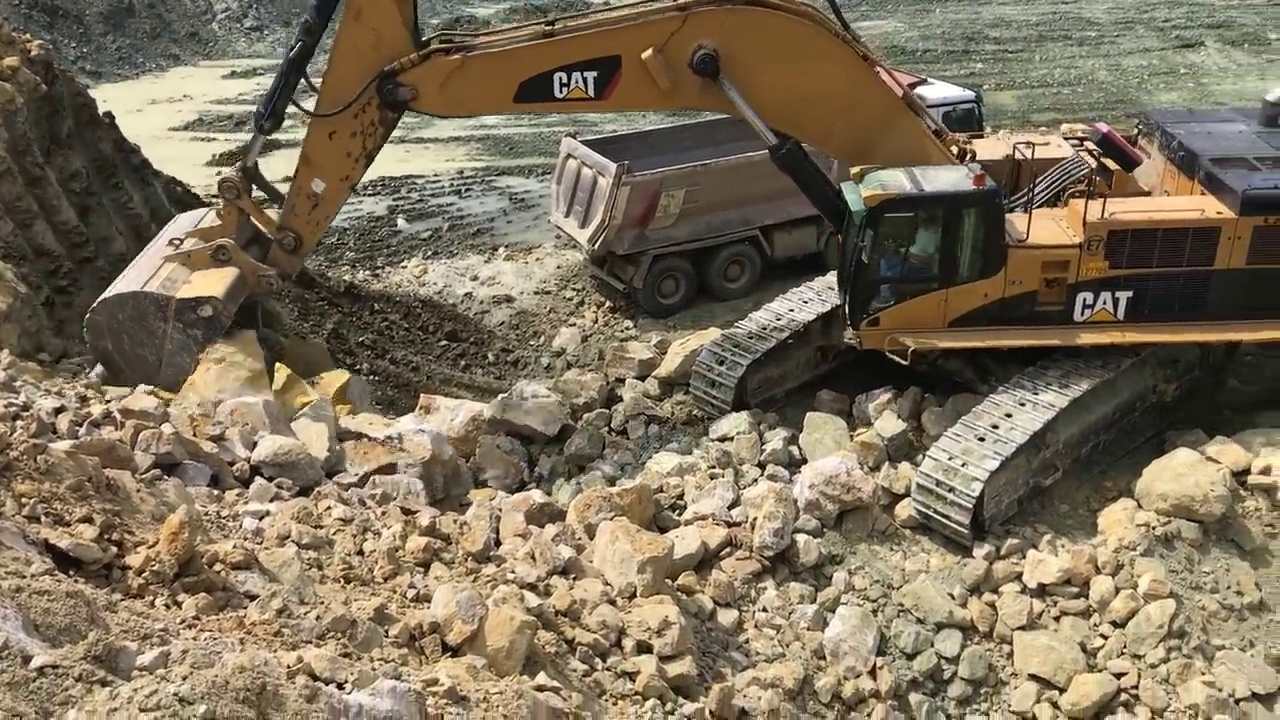excavator: (82, 6, 1280, 550)
truck: (551, 83, 998, 317)
